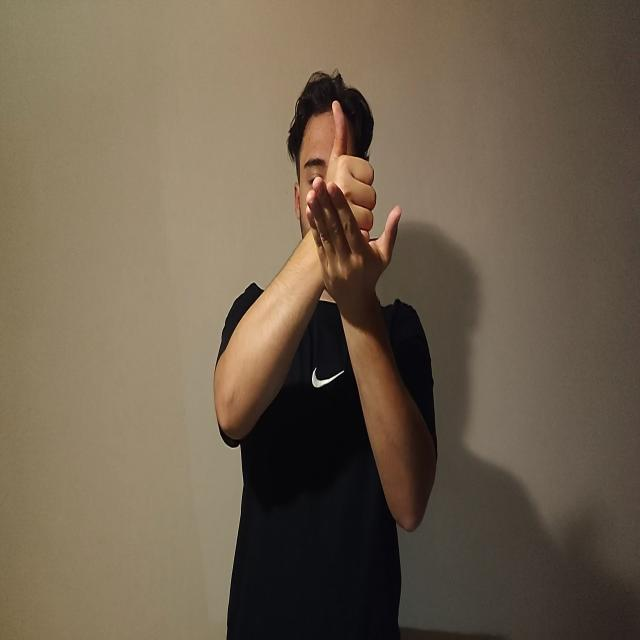help: (298, 97, 407, 270)
